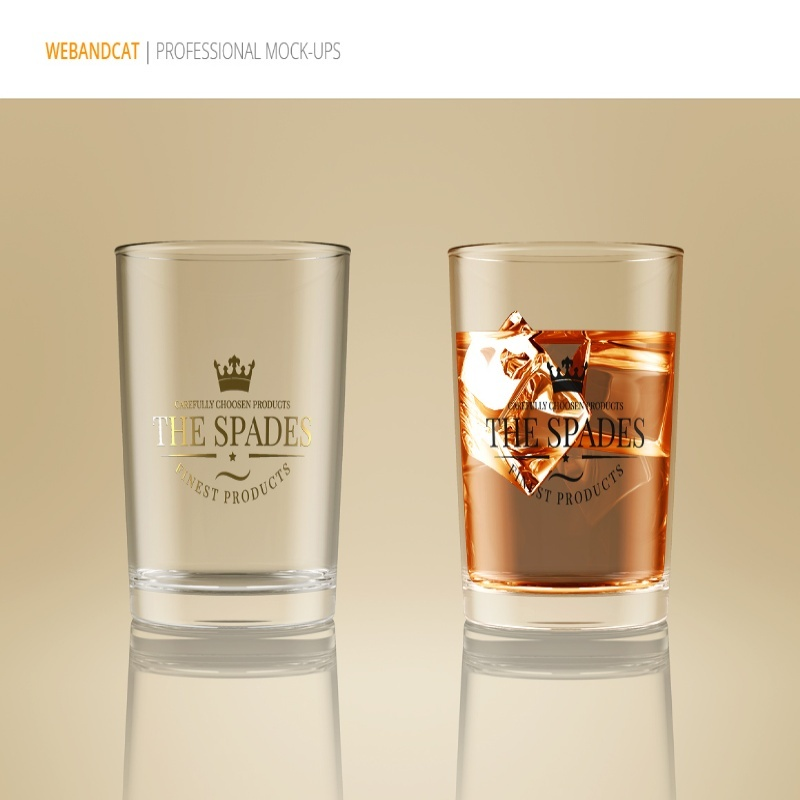whiskey: (442, 238, 691, 615)
